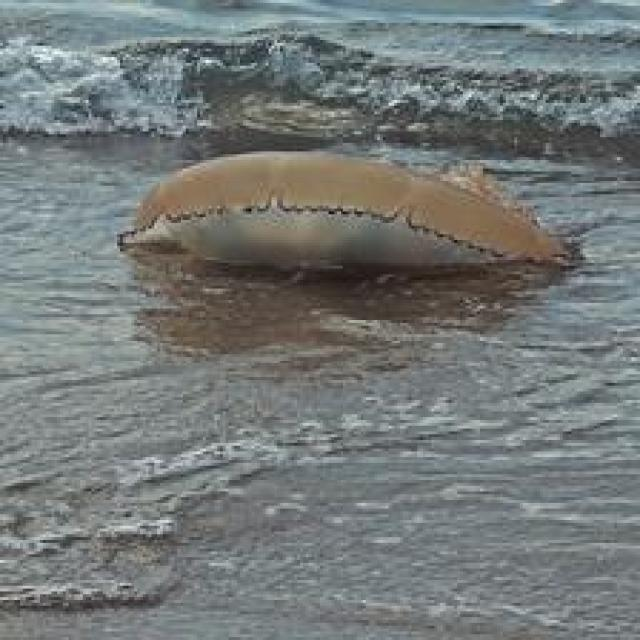Box-jellyfish: (115, 146, 574, 277)
